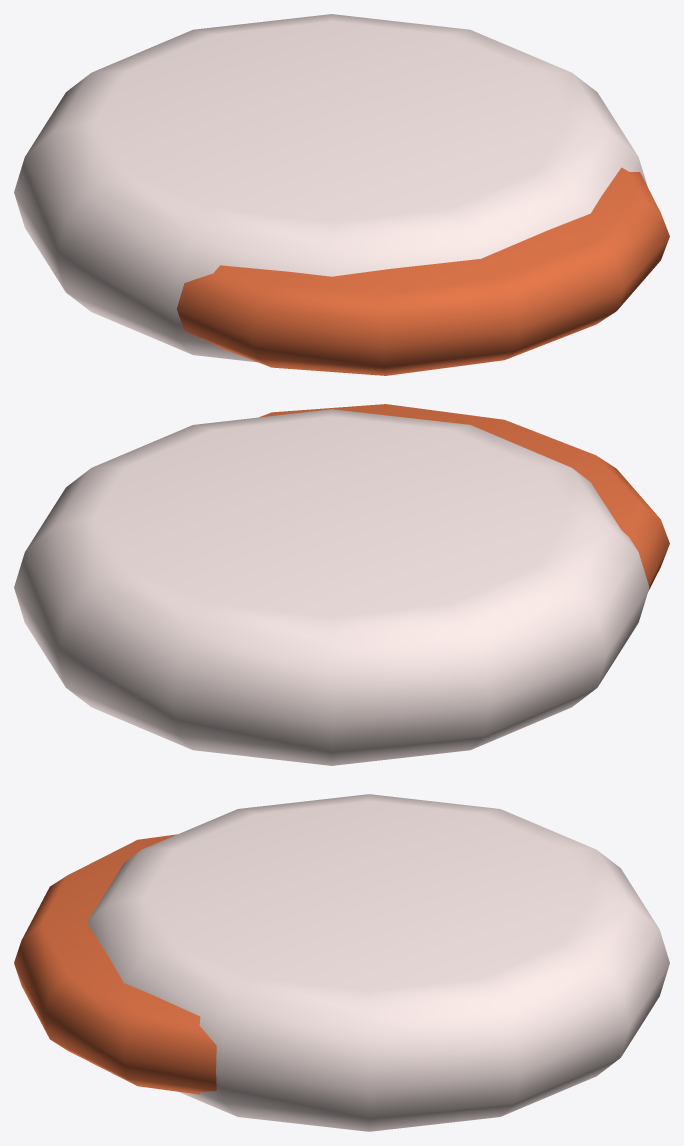
Rendered from Scallops_Meat.fbx.
The picture shows the model from 3 angles, top to bottom: view 1: azimuth 30°, elevation 25°; view 2: azimuth 150°, elevation 25°; view 3: azimuth 270°, elevation 25°; orthographic projection. The views are drawn at different scales.
Visible parts, largest first — view 1: Scallops_Meat; view 2: Scallops_Meat; view 3: Scallops_Meat.
Part boxes in pixels (x1,y1,x2,y2): Scallops_Meat: [14, 14, 669, 375]; Scallops_Meat: [14, 404, 669, 765]; Scallops_Meat: [14, 794, 669, 1131].
Size of the model in its own units: 3.29 by 0.8075 by 3.59.
